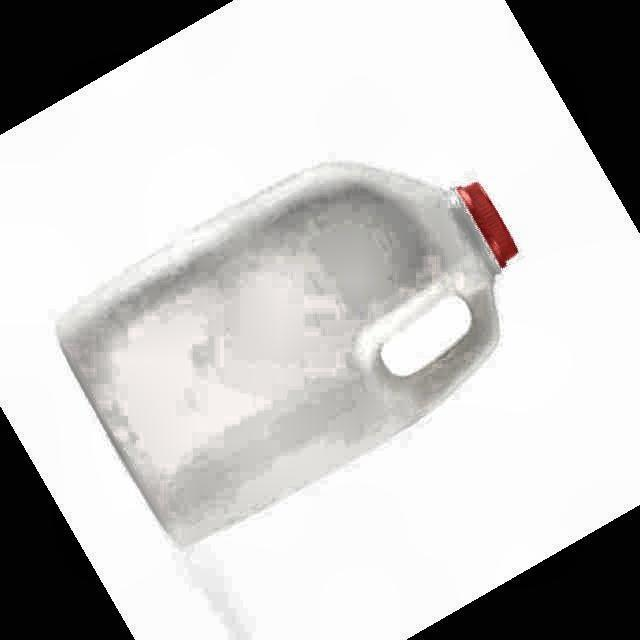plastic: (59, 164, 517, 543)
